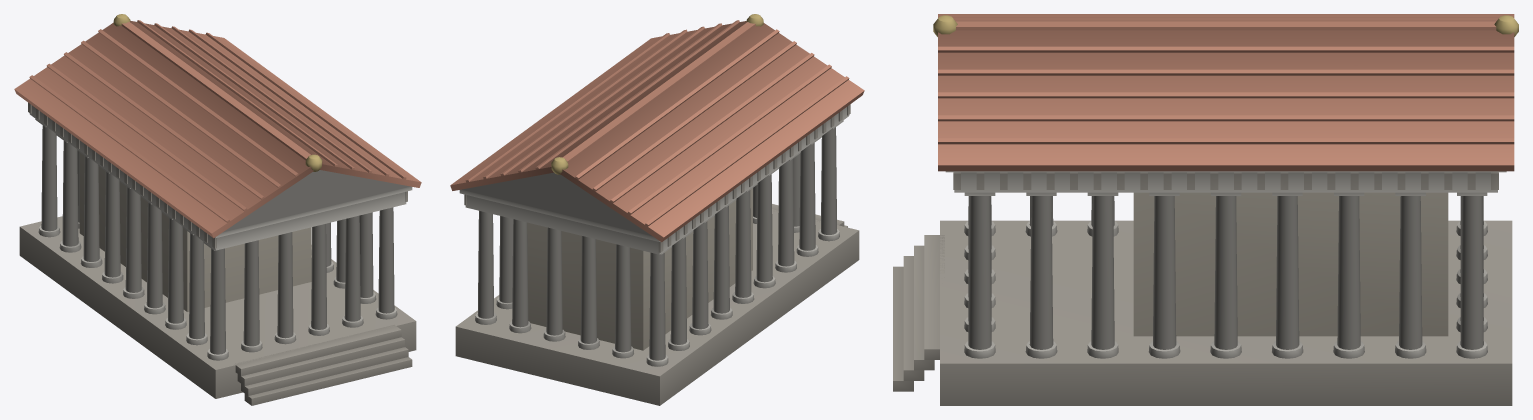
Rendered from landmark_ancient.glb.
3 renders of one model, left to right at view 1: azimuth 30°, elevation 25°; view 2: azimuth 150°, elevation 25°; view 3: azimuth 270°, elevation 25°, orthographic. The views are drawn at different scales.
Parts seen in each view (by area): view 1: Body_Detail, Body_Roof, Body_Wall; view 2: Body_Detail, Body_Roof, Body_Wall; view 3: Body_Detail, Body_Roof, Body_Wall.
Boxes of the visible parts, x1,y1,x2,y2 form: Body_Detail: [19, 14, 416, 405]; Body_Roof: [14, 20, 421, 238]; Body_Wall: [79, 152, 311, 311]; Body_Detail: [455, 14, 859, 405]; Body_Roof: [450, 20, 864, 242]; Body_Wall: [527, 188, 752, 350]; Body_Detail: [893, 15, 1518, 405]; Body_Roof: [938, 14, 1514, 171]; Body_Wall: [1133, 192, 1448, 336].
Size of the model in its own units: 1.36 by 1.35 by 2.41.
